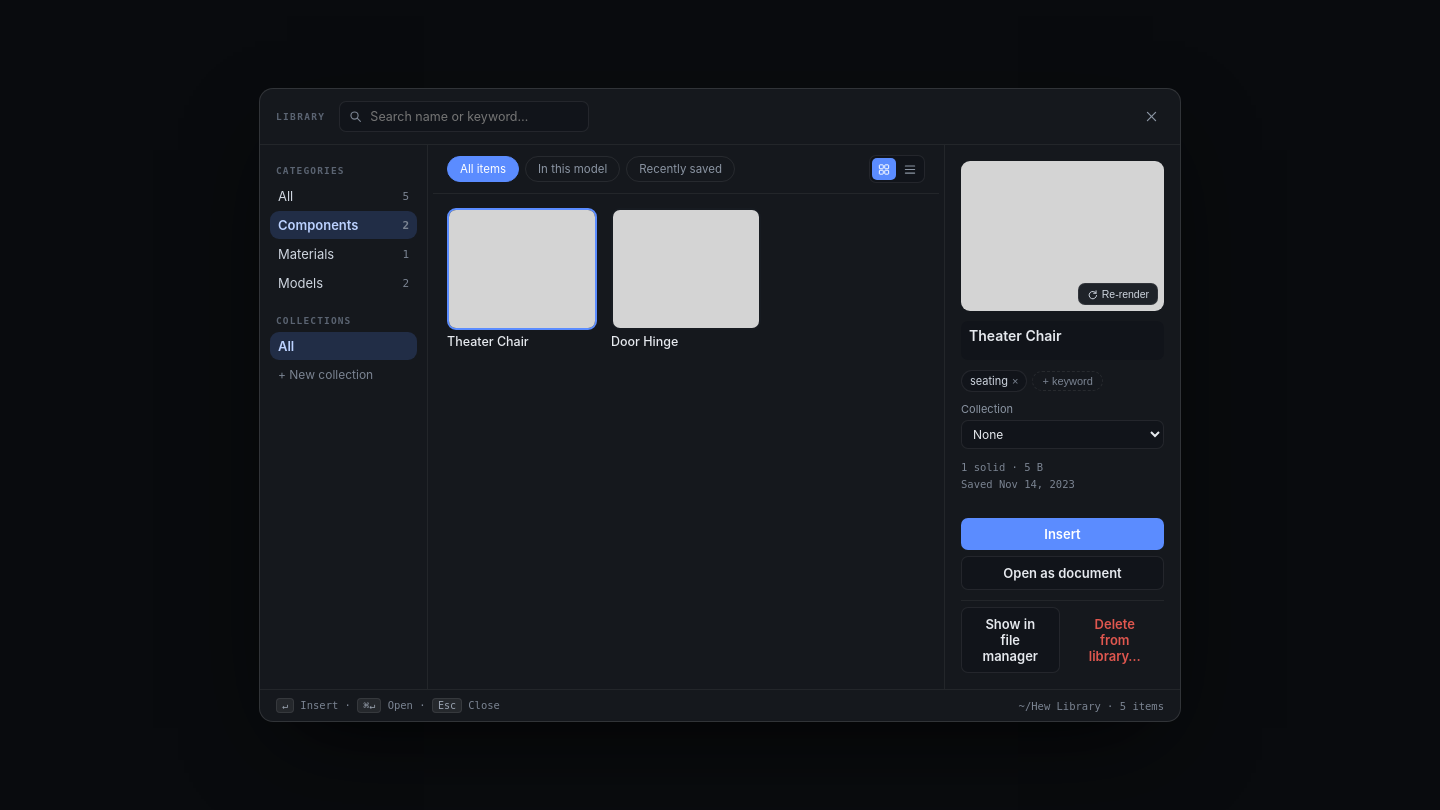
it: LibraryDialog › filters by search query within the current category
Expected: the text "Theater Chair" is shown, [447,334,529,349]
Expected: the text "Door Hinge" is shown, [611,334,678,349]
Step 1. Type "chair" into the field with placeholder "Search name or keyword…" → (474, 116), box [368,108,579,125]
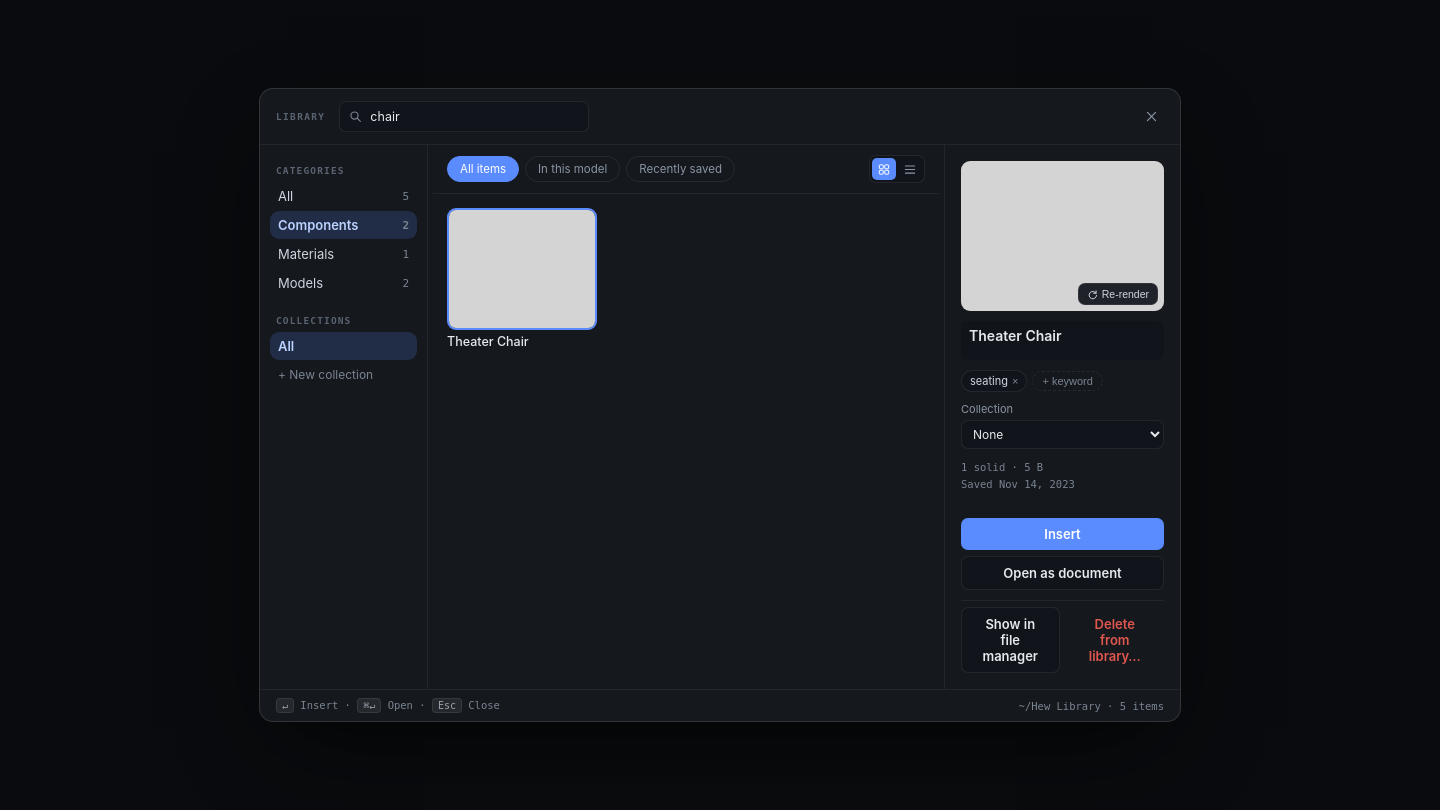
Expected: the text "Theater Chair" is shown, [447,334,529,349]
Now the option "Door Hinge" is gone
